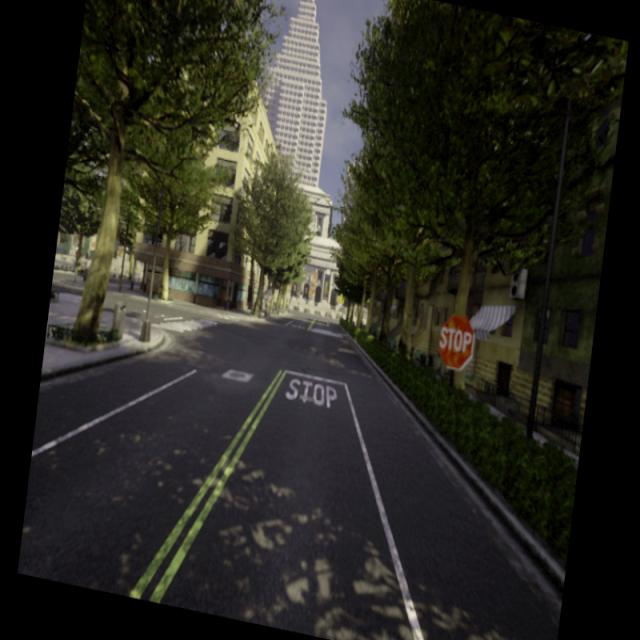stop sign: (435, 312, 477, 372)
